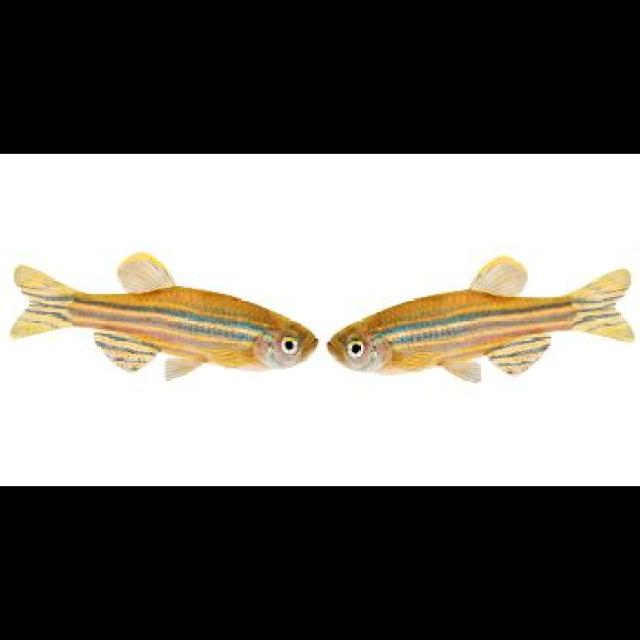ZebraFish: (9, 248, 320, 377), (324, 249, 633, 373)
